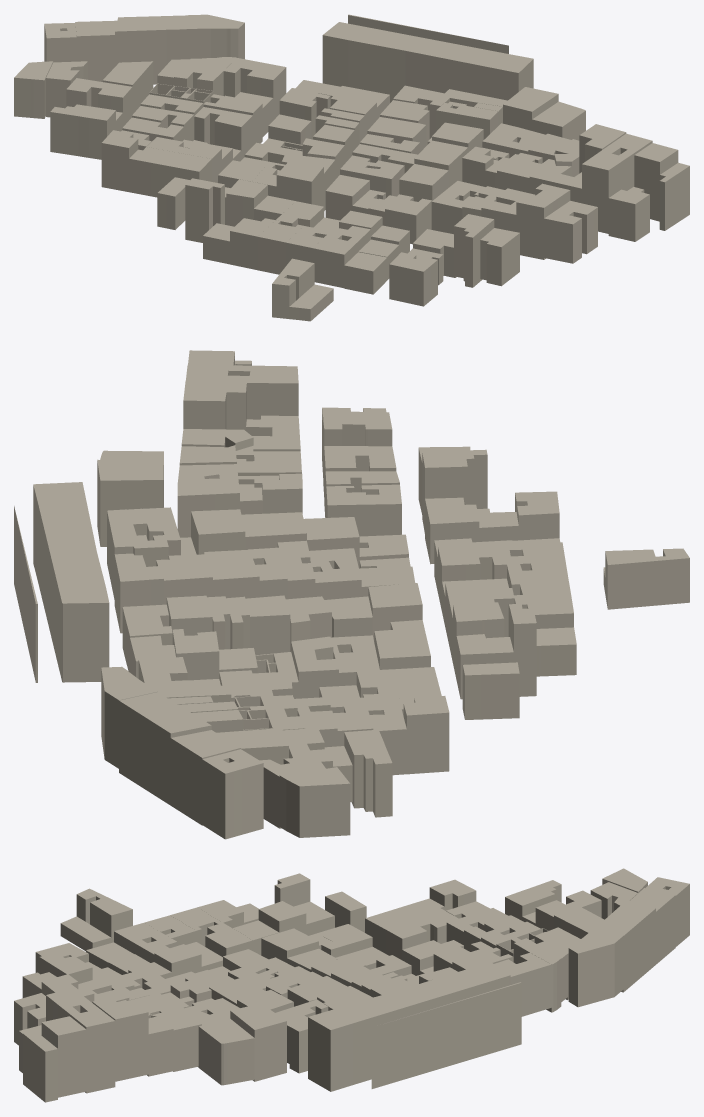
Rendered from senglea_58_25_collision.glb.
The picture shows the model from 3 angles, top to bottom: view 1: azimuth 30°, elevation 25°; view 2: azimuth 150°, elevation 25°; view 3: azimuth 270°, elevation 25°; orthographic projection. The views are drawn at different scales.
Parts seen in each view (by area): view 1: geometry_0; view 2: geometry_0; view 3: geometry_0.
Boxes of the visible parts, x1,y1,x2,y2 form: geometry_0: [14, 14, 689, 321]; geometry_0: [14, 350, 689, 839]; geometry_0: [14, 868, 689, 1102].
Size of the model in its own units: 126 by 26.39 by 177.
